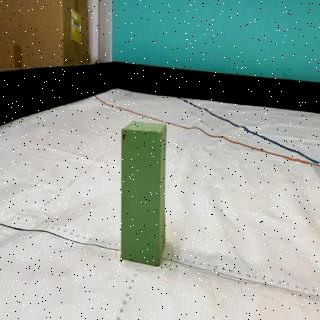greenbox: (121, 121, 168, 266)
